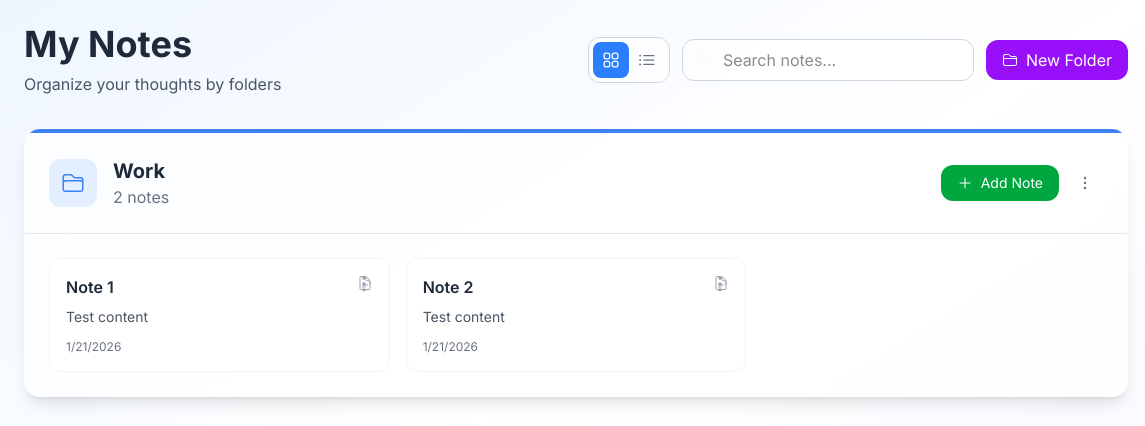
Test case: Notes Page › Search Functionality › shows all notes when search is cleared
Type "Note 1" into the field with placeholder "Search notes..." at (828, 60), box 682,39 -> 974,81
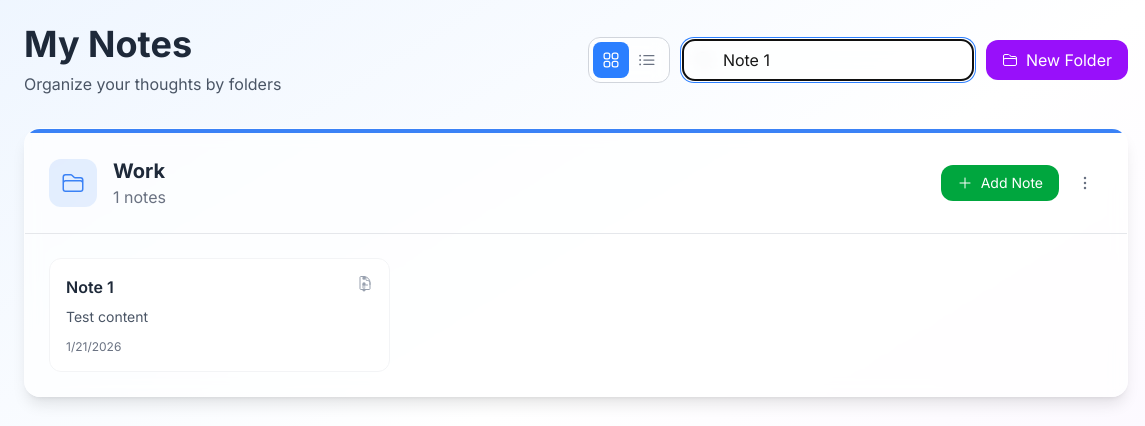
Check: the link "Note 2" is gone
Clear the field with placeholder "Search notes..." at (828, 60), box 682,39 -> 974,81
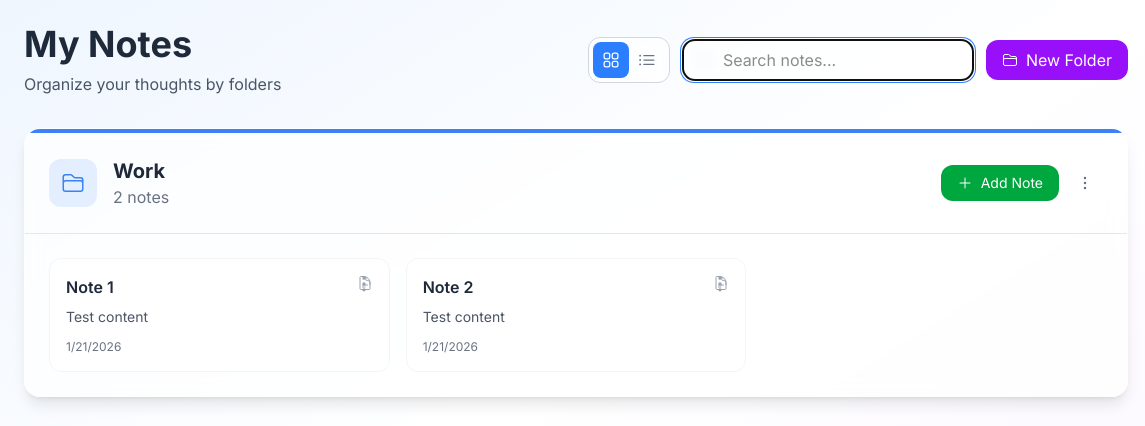
Check: the heading "Note 1" is shown, box 66,277 -> 114,297
Check: the heading "Note 2" is shown, box 423,277 -> 474,297
